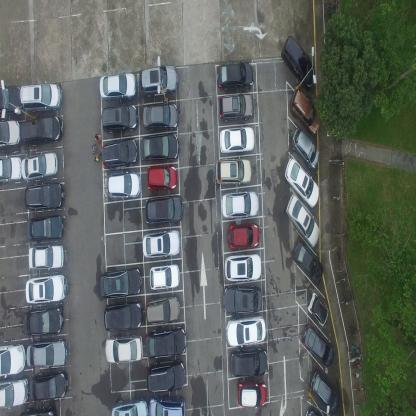car: (282, 29, 316, 90), (286, 190, 320, 246), (284, 155, 320, 207), (301, 322, 335, 368), (292, 235, 323, 284), (145, 324, 187, 360), (98, 266, 141, 300), (24, 272, 66, 306), (289, 86, 320, 132), (146, 358, 187, 392), (23, 180, 64, 213), (20, 113, 62, 145), (309, 370, 340, 413), (226, 313, 266, 346), (22, 305, 64, 336), (26, 337, 68, 368), (104, 299, 143, 332), (292, 124, 319, 170), (28, 370, 68, 401), (229, 346, 268, 377), (141, 228, 182, 257), (221, 188, 259, 219), (102, 136, 138, 168), (145, 193, 182, 224), (104, 334, 142, 364), (224, 252, 262, 282), (20, 84, 63, 110), (141, 133, 178, 163), (101, 104, 138, 134), (21, 151, 58, 181), (222, 285, 263, 312), (140, 67, 178, 96), (216, 94, 253, 123), (214, 158, 252, 186), (29, 214, 64, 244), (28, 243, 64, 272), (219, 126, 255, 154), (236, 378, 268, 409), (146, 294, 180, 323), (226, 222, 260, 251), (143, 104, 179, 131), (100, 74, 137, 100), (216, 64, 253, 90), (109, 168, 141, 198), (0, 376, 29, 409), (0, 342, 26, 378), (146, 162, 178, 190), (148, 261, 180, 289), (148, 393, 186, 415), (306, 290, 328, 326), (109, 397, 148, 415), (0, 83, 21, 116), (0, 118, 21, 149), (0, 154, 23, 182)
